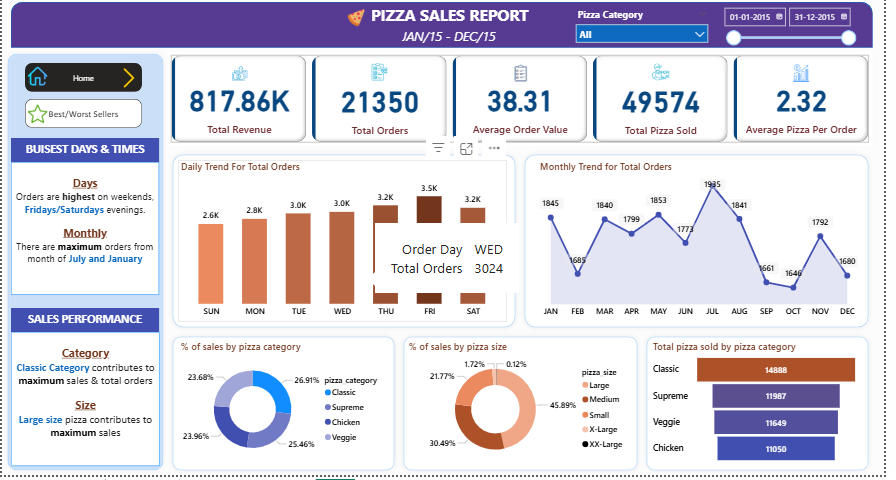

The page's visual inventory and layout, read from the dashboard file:
{"tool":"powerbi","page":{"name":"Home","canvas":[1500,820],"ordinal":0},"visuals":[{"type":"shape","box":[1.7,95.3,280.7,724.7],"z":0},{"type":"cardVisual","fields":{"Data":["pizza_sales.Total Revenue","pizza_sales.Total Orders","pizza_sales.Average Order Value","pizza_sales.Total Pizza Sold","pizza_sales.Average Pizza Per Order"]},"box":[282.4,100.4,1199.4,159.9],"z":1000},{"type":"textbox","box":[602,16,296,46],"z":2000},{"type":"textbox","box":[666,54,194,40],"z":3000},{"type":"shape","box":[16,16,1466,78],"z":4000},{"type":"textbox","box":[622.7,13.6,287.5,47.6],"z":5000},{"type":"textbox","box":[675.4,54.4,183.7,39.1],"z":6000},{"type":"image","box":[578,22,48,40],"z":7000},{"type":"textbox","box":[15.3,287.5,251.8,226.3],"z":7500},{"type":"shape","box":[282.4,267.1,598.8,309.6],"z":8000},{"type":"columnChart","title":"Daily Trend For Total Orders","fields":{"Category":["pizza_sales.Order Day"],"Y":["pizza_sales.Total Orders"]},"box":[299.4,284.1,559.7,275.6],"z":9000},{"type":"textbox","box":[15.3,246.7,251.8,40.8],"z":9500},{"type":"shape","box":[881.2,267.1,600.5,309.6],"z":10000},{"type":"areaChart","title":"Monthly Trend for Total Orders","fields":{"Category":["pizza_sales.Order Month"],"Y":["pizza_sales.Total Orders"]},"box":[910.2,284.1,551.2,275.6],"z":11000},{"type":"shape","box":[282.4,576.7,393,243.3],"z":12000},{"type":"shape","box":[675.4,576.7,413.4,243.3],"z":13000},{"type":"shape","box":[1088.8,576.7,393,243.3],"z":14000},{"type":"donutChart","title":"% of sales by pizza category","fields":{"Category":["pizza_sales.pizza_category"],"Y":["pizza_sales.Total Revenue"]},"box":[299.4,590.3,365.8,214.4],"z":15000},{"type":"donutChart","title":"% of sales by pizza size","fields":{"Y":["pizza_sales.Total Revenue"],"Category":["pizza_sales.pizza_size"]},"box":[687.3,590.3,386.2,214.4],"z":16000},{"type":"funnel","title":"Total pizza sold by pizza category","fields":{"Category":["pizza_sales.pizza_category"],"Y":["pizza_sales.Total Pizza Sold"]},"box":[1102.4,590.3,359,214],"z":17000},{"type":"textbox","box":[15.3,535.9,251.8,40.8],"z":17001},{"type":"textbox","box":[15.3,576.7,253.5,228],"z":17002},{"type":"slicer","fields":{"Values":["pizza_sales.pizza_category"]},"box":[966.3,20.4,245,66.3],"z":17003},{"type":"slicer","fields":{"Values":["pizza_sales.order_date"]},"box":[1216.4,15.3,245,78.3],"z":17004},{"type":"pageNavigator","box":[39.1,119.1,199,49.3],"z":17005},{"type":"pageNavigator","box":[39.1,180.3,199,49.3],"z":17006},{"type":"image","box":[193.9,122.5,44.2,44.2],"z":17007},{"type":"image","box":[39.1,119.1,42.5,44.2],"z":17008},{"type":"image","box":[39.1,176.9,42.5,56.1],"z":17009}]}

Visuals, with their boxes in screenshot pixels (x1, y1, x2, y2), scaled from the page's 1500x820 canvas onto the 896x480 screenshot:
shape: l=1, t=56, r=169, b=479
cardVisual - pizza_sales.Total Revenue x pizza_sales.Total Orders: l=169, t=59, r=885, b=152
textbox: l=360, t=9, r=536, b=36
textbox: l=398, t=32, r=514, b=55
shape: l=10, t=9, r=885, b=55
textbox: l=372, t=8, r=544, b=36
textbox: l=403, t=32, r=513, b=55
image: l=345, t=13, r=374, b=36
textbox: l=9, t=168, r=160, b=301
shape: l=169, t=156, r=526, b=338
"Daily Trend For Total Orders" columnChart: l=179, t=166, r=513, b=328
textbox: l=9, t=144, r=160, b=168
shape: l=526, t=156, r=885, b=338
"Monthly Trend for Total Orders" areaChart: l=544, t=166, r=873, b=328
shape: l=169, t=338, r=403, b=479
shape: l=403, t=338, r=650, b=479
shape: l=650, t=338, r=885, b=479
"% of sales by pizza category" donutChart: l=179, t=346, r=397, b=471
"% of sales by pizza size" donutChart: l=411, t=346, r=641, b=471
"Total pizza sold by pizza category" funnel: l=659, t=346, r=873, b=471
textbox: l=9, t=314, r=160, b=338
textbox: l=9, t=338, r=161, b=471
slicer - pizza_sales.pizza_category: l=577, t=12, r=724, b=51
slicer - pizza_sales.order_date: l=727, t=9, r=873, b=55
pageNavigator: l=23, t=70, r=142, b=99
pageNavigator: l=23, t=106, r=142, b=134
image: l=116, t=72, r=142, b=98
image: l=23, t=70, r=49, b=96
image: l=23, t=104, r=49, b=136
